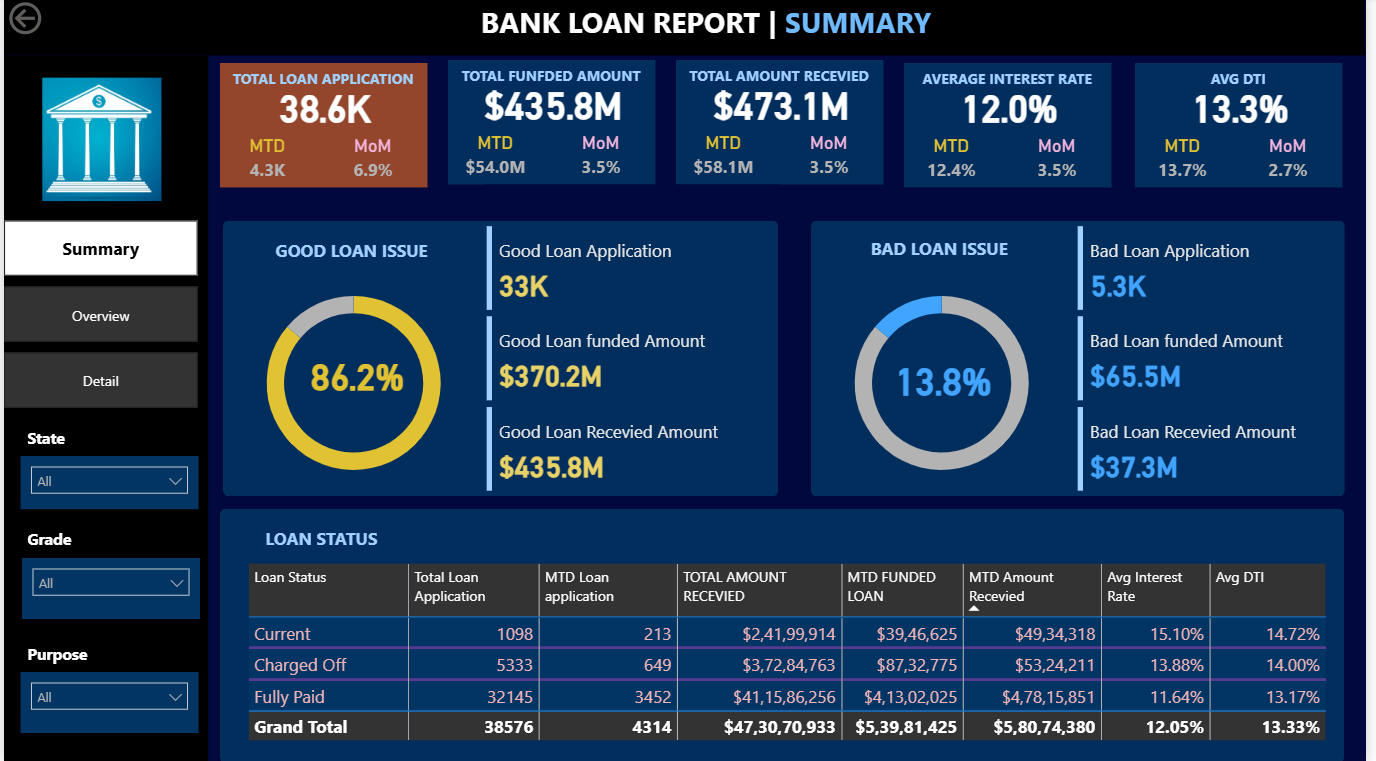

Layout of this report page (visuals, bound fields, positions):
{"tool":"powerbi","page":{"name":"Summary","canvas":[1280,720],"ordinal":0},"visuals":[{"type":"shape","box":[0,0,1279.4,55],"z":0},{"type":"shape","box":[0,54.4,192.1,665.9],"z":1000},{"type":"textbox","box":[39.1,0,1241,54.7],"z":2000},{"type":"shape","box":[417.3,59.4,195,117],"z":3000,"group":"g3"},{"type":"shape","box":[631.5,59.4,195,117],"z":3000,"group":"g4"},{"type":"group","id":"g1","title":"Group 1","box":[201.6,62.5,198.5,117.2],"z":3000,"group":"g7"},{"type":"shape","box":[203.2,62.5,195,117],"z":3000,"group":"g2"},{"type":"shape","box":[845.6,62.5,195,117],"z":3000,"group":"g5"},{"type":"shape","box":[1062.8,62.5,195,117],"z":3000,"group":"g6"},{"type":"shape","box":[206.5,209.7,521.8,259.3],"z":3000},{"type":"group","id":"g2","title":"Group 2","box":[201.6,62.5,198.5,117],"z":3001,"group":"g1"},{"type":"group","id":"g3","title":"Group 2","box":[415.7,59.4,198.5,117.2],"z":4000,"group":"g7"},{"type":"card","fields":{"Values":["financial_loan.Total Funded amount"]},"box":[417.3,76.6,196.9,45.3],"z":4000,"group":"g3"},{"type":"card","fields":{"Values":["financial_loan.TOTAL AMOUNT RECEVIED"]},"box":[631.5,76.6,196.9,45.3],"z":4000,"group":"g4"},{"type":"card","fields":{"Values":["financial_loan.Total Loan Application"]},"box":[203.2,79.7,196.9,45.3],"z":4000,"group":"g2"},{"type":"card","fields":{"Values":["financial_loan.Avg Interest Rate"]},"box":[845.6,79.7,196.9,45.3],"z":4000,"group":"g5"},{"type":"card","fields":{"Values":["financial_loan.Avg DTI"]},"box":[1062.8,79.7,196.9,45.3],"z":4000,"group":"g6"},{"type":"card","fields":{"Values":["financial_loan.Good Loan %"]},"box":[264.1,329.7,136.1,48],"z":4000},{"type":"textbox","box":[415.7,59.4,196.9,40.6],"z":5000,"group":"g3"},{"type":"group","id":"g4","title":"Group 2","box":[629.9,59.4,198.5,117.2],"z":5000,"group":"g7"},{"type":"textbox","box":[629.9,59.4,196.9,40.6],"z":5000,"group":"g4"},{"type":"textbox","box":[201.6,62.5,196.9,40.6],"z":5000,"group":"g2"},{"type":"textbox","box":[844,62.5,196.9,40.6],"z":5000,"group":"g5"},{"type":"textbox","box":[1061.2,62.5,196.9,40.6],"z":5000,"group":"g6"},{"type":"shape","box":[758,209.4,501.7,259.5],"z":5000},{"type":"group","id":"g5","title":"Group 2","box":[844,62.5,198.5,117.2],"z":6000,"group":"g7"},{"type":"card","title":"MTD","fields":{"Values":["financial_loan.MTD FUNDED LOAN"]},"box":[419.8,126.4,82.8,50],"z":6000,"group":"g3"},{"type":"card","title":"MTD","fields":{"Values":["financial_loan.MTD Amount Recevied"]},"box":[634,126.4,82.8,50],"z":6000,"group":"g4"},{"type":"card","title":"MTD","fields":{"Values":["financial_loan.Month Loan application"]},"box":[205.7,129.5,82.8,50],"z":6000,"group":"g2"},{"type":"card","title":"MTD","fields":{"Values":["financial_loan.MTD Avg Int_Rate"]},"box":[848.1,129.5,82.8,50],"z":6000,"group":"g5"},{"type":"card","title":"MTD","fields":{"Values":["financial_loan.MTD Avg Dti"]},"box":[1065.3,129.5,82.8,50],"z":6000,"group":"g6"},{"type":"card","fields":{"Values":["financial_loan.Bad Loan %"]},"box":[824.4,329.7,115.2,57.6],"z":6000},{"type":"actionButton","box":[0,0,100,40],"z":7000},{"type":"group","id":"g6","title":"Group 2","box":[1061.2,62.5,198.5,117.2],"z":7000,"group":"g7"},{"type":"card","title":"MoM","fields":{"Values":["financial_loan.MOM Amount Received"]},"box":[518.3,126.4,84,50],"z":7000,"group":"g3"},{"type":"card","title":"MoM","fields":{"Values":["financial_loan.MOM Amount Received"]},"box":[732.5,126.4,84,50],"z":7000,"group":"g4"},{"type":"card","title":"MoM","fields":{"Values":["financial_loan.MOM"]},"box":[304.2,129.5,84,50],"z":7000,"group":"g2"},{"type":"card","title":"MoM","fields":{"Values":["financial_loan.MOM Avg Int_Rate"]},"box":[946.6,129.5,84,50],"z":7000,"group":"g5"},{"type":"card","title":"MoM","fields":{"Values":["financial_loan.MoM Avg Dti"]},"box":[1163.8,129.5,84,50],"z":7000,"group":"g6"},{"type":"group","id":"g7","title":"Group 3","box":[201.6,59.4,1058.1,120.4],"z":8000},{"type":"textbox","box":[206.5,220.9,241.7,33.6],"z":9000},{"type":"donutChart","fields":{"Category":["financial_loan.Good VS Bad Loan"],"Y":["financial_loan.Total Loan Application"]},"box":[206.5,254.5,244.9,214.5],"z":10000},{"type":"cardVisual","fields":{"Data":["financial_loan.Good Loan Appl.","financial_loan.Good Loan funded amt.","financial_loan.Good Loan amont recevied."]},"box":[448.6,209.4,268.8,259.5],"z":11000},{"type":"donutChart","fields":{"Category":["financial_loan.Good VS Bad Loan"],"Y":["financial_loan.Total Loan Application"]},"box":[758.7,254.5,244.9,214.5],"z":12000},{"type":"textbox","box":[758,220.4,241,33],"z":13000},{"type":"shape","box":[203.2,481.4,1056.6,239.1],"z":14000},{"type":"cardVisual","fields":{"Data":["financial_loan.Bad Loan Application","financial_loan.Bad Loan funded Amount","financial_loan.Bad Loan Recevied Amount"]},"box":[1003.4,209.4,256.3,259.5],"z":15000},{"type":"tableEx","fields":{"Values":["financial_loan.loan_status","financial_loan.Total Loan Application","financial_loan.MTD Loan application","financial_loan.TOTAL AMOUNT RECEVIED","financial_loan.MTD FUNDED LOAN","financial_loan.MTD Amount Recevied","financial_loan.Avg Interest Rate","financial_loan.Avg DTI"]},"box":[223.5,526.7,1025.3,179.7],"z":16000},{"type":"textbox","box":[223.5,492.3,148.5,34.4],"z":17000},{"type":"slicer","fields":{"Values":["financial_loan.address_state"]},"box":[15.7,431.4,167.1,50],"z":18000},{"type":"textbox","box":[17.1,398.6,58.6,42.9],"z":19000},{"type":"slicer","fields":{"Values":["financial_loan.grade"]},"box":[17.1,527.1,167.1,57.1],"z":20000},{"type":"slicer","fields":{"Values":["financial_loan.purpose"]},"box":[15.7,634.3,167.1,57.1],"z":21000},{"type":"textbox","box":[17.1,492.9,84.3,44.3],"z":22000},{"type":"textbox","box":[17.1,601.4,78.6,42.9],"z":23000},{"type":"pageNavigator","box":[0,209.4,182.9,178.2],"z":23001},{"type":"image","box":[0,70.3,184.4,126.6],"z":23002}]}

Visuals, with their boxes in screenshot pixels (x1, y1, x2, y2), scaled from the page's 1280x720 canvas onto the 1376x761 screenshot:
shape: x1=0 y1=0 x2=1375 y2=58
shape: x1=0 y1=57 x2=207 y2=760
textbox: x1=42 y1=0 x2=1375 y2=58
shape: x1=449 y1=63 x2=658 y2=186
shape: x1=679 y1=63 x2=888 y2=186
"Group 1" group: x1=217 y1=66 x2=430 y2=190
shape: x1=218 y1=66 x2=428 y2=190
shape: x1=909 y1=66 x2=1119 y2=190
shape: x1=1143 y1=66 x2=1352 y2=190
shape: x1=222 y1=222 x2=783 y2=496
"Group 2" group: x1=217 y1=66 x2=430 y2=190
"Group 2" group: x1=447 y1=63 x2=660 y2=187
card - financial_loan.Total Funded amount: x1=449 y1=81 x2=660 y2=129
card - financial_loan.TOTAL AMOUNT RECEVIED: x1=679 y1=81 x2=891 y2=129
card - financial_loan.Total Loan Application: x1=218 y1=84 x2=430 y2=132
card - financial_loan.Avg Interest Rate: x1=909 y1=84 x2=1121 y2=132
card - financial_loan.Avg DTI: x1=1143 y1=84 x2=1354 y2=132
card - financial_loan.Good Loan %: x1=284 y1=348 x2=430 y2=399
textbox: x1=447 y1=63 x2=659 y2=106
"Group 2" group: x1=677 y1=63 x2=891 y2=187
textbox: x1=677 y1=63 x2=889 y2=106
textbox: x1=217 y1=66 x2=428 y2=109
textbox: x1=907 y1=66 x2=1119 y2=109
textbox: x1=1141 y1=66 x2=1352 y2=109
shape: x1=815 y1=221 x2=1354 y2=496
"Group 2" group: x1=907 y1=66 x2=1121 y2=190
"MTD" card: x1=451 y1=134 x2=540 y2=186
"MTD" card: x1=682 y1=134 x2=771 y2=186
"MTD" card: x1=221 y1=137 x2=310 y2=190
"MTD" card: x1=912 y1=137 x2=1001 y2=190
"MTD" card: x1=1145 y1=137 x2=1234 y2=190
card - financial_loan.Bad Loan %: x1=886 y1=348 x2=1010 y2=409
actionButton: x1=0 y1=0 x2=108 y2=42
"Group 2" group: x1=1141 y1=66 x2=1354 y2=190
"MoM" card: x1=557 y1=134 x2=647 y2=186
"MoM" card: x1=787 y1=134 x2=878 y2=186
"MoM" card: x1=327 y1=137 x2=417 y2=190
"MoM" card: x1=1018 y1=137 x2=1108 y2=190
"MoM" card: x1=1251 y1=137 x2=1341 y2=190
"Group 3" group: x1=217 y1=63 x2=1354 y2=190
textbox: x1=222 y1=233 x2=482 y2=269
donutChart - financial_loan.Good VS Bad Loan x financial_loan.Total Loan Application: x1=222 y1=269 x2=485 y2=496
cardVisual - financial_loan.Good Loan Appl. x financial_loan.Good Loan funded amt.: x1=482 y1=221 x2=771 y2=496
donutChart - financial_loan.Good VS Bad Loan x financial_loan.Total Loan Application: x1=816 y1=269 x2=1079 y2=496
textbox: x1=815 y1=233 x2=1074 y2=268
shape: x1=218 y1=509 x2=1354 y2=760
cardVisual - financial_loan.Bad Loan Application x financial_loan.Bad Loan funded Amount: x1=1079 y1=221 x2=1354 y2=496
tableEx - financial_loan.loan_status x financial_loan.Total Loan Application: x1=240 y1=557 x2=1342 y2=747
textbox: x1=240 y1=520 x2=400 y2=557
slicer - financial_loan.address_state: x1=17 y1=456 x2=197 y2=509
textbox: x1=18 y1=421 x2=81 y2=467
slicer - financial_loan.grade: x1=18 y1=557 x2=198 y2=617
slicer - financial_loan.purpose: x1=17 y1=670 x2=197 y2=731
textbox: x1=18 y1=521 x2=109 y2=568
textbox: x1=18 y1=636 x2=103 y2=681
pageNavigator: x1=0 y1=221 x2=197 y2=410
image: x1=0 y1=74 x2=198 y2=208
